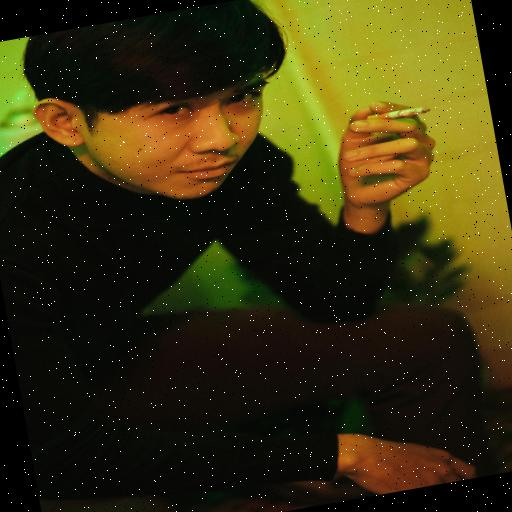terdeteksi pegang rokok: (300, 52, 466, 221)
